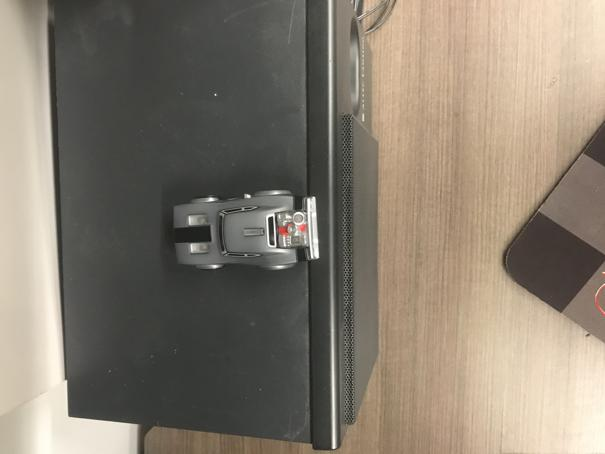Charger: (172, 190, 322, 272)
